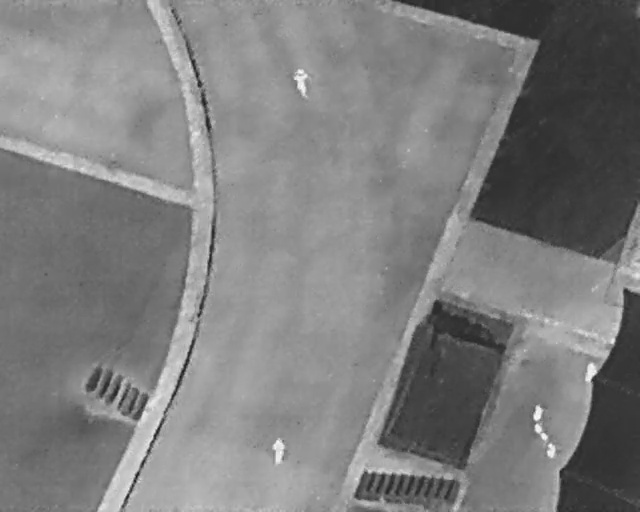Person: (291, 65, 314, 100), (270, 435, 287, 466)
